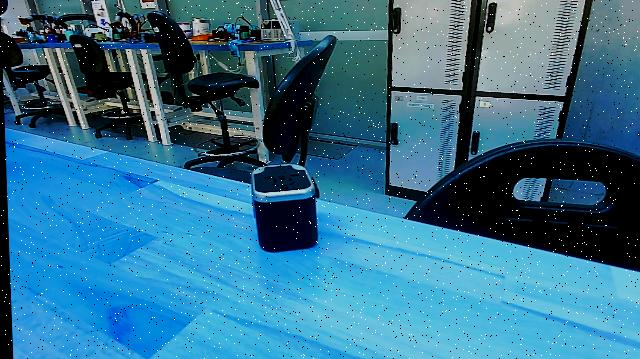adapter: (237, 164, 325, 252)
